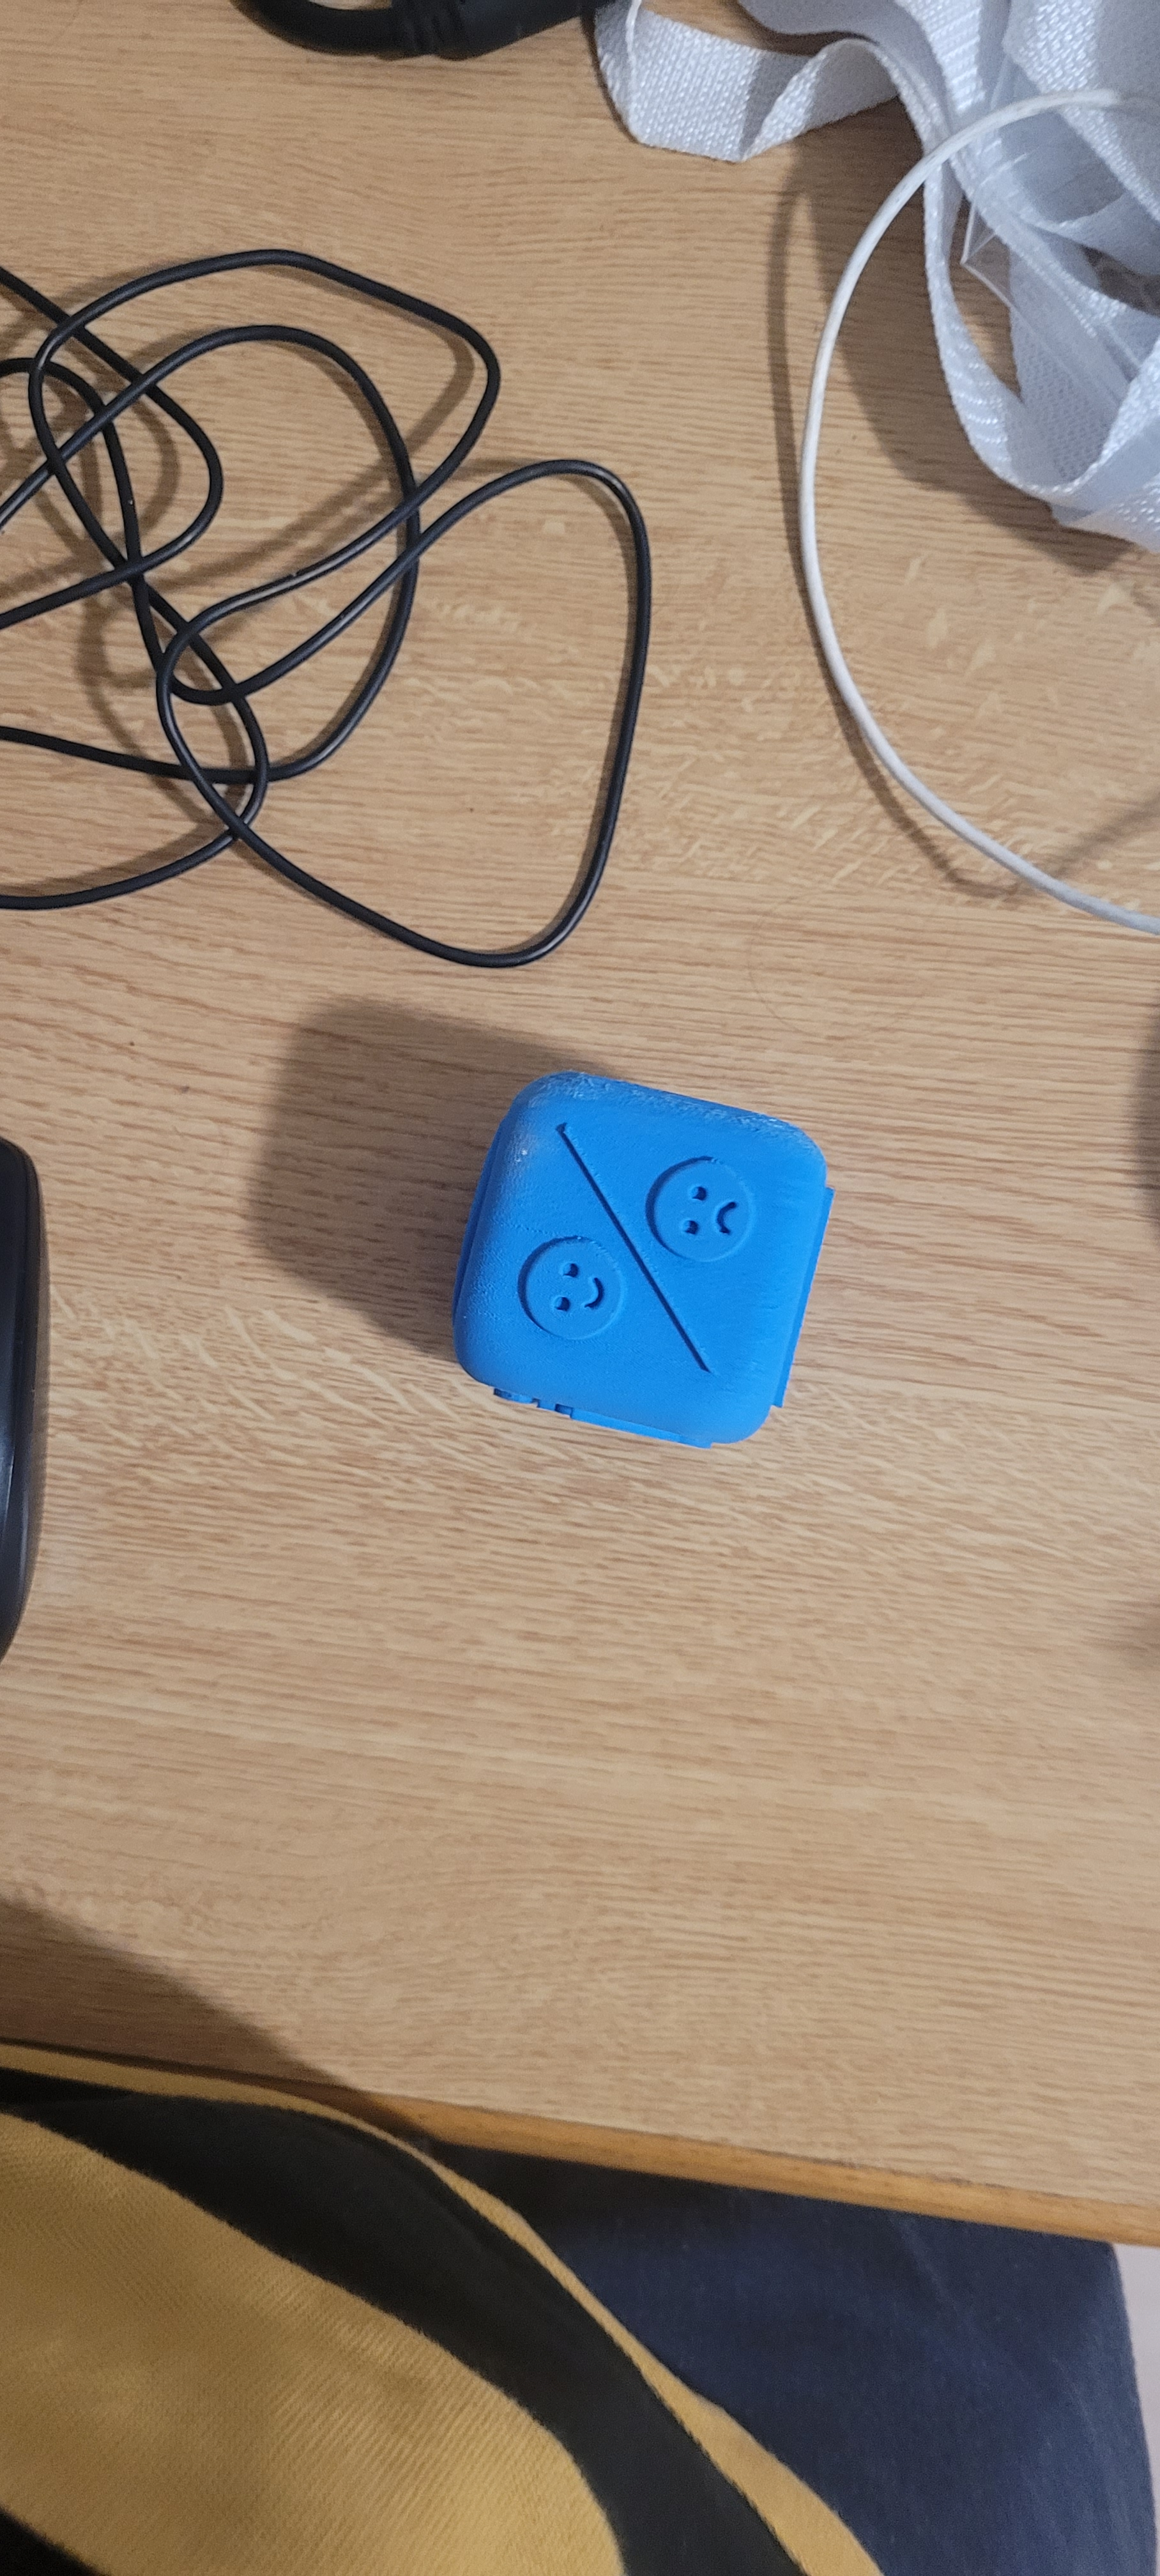Like/Dislike: (480, 1076, 787, 1451)
